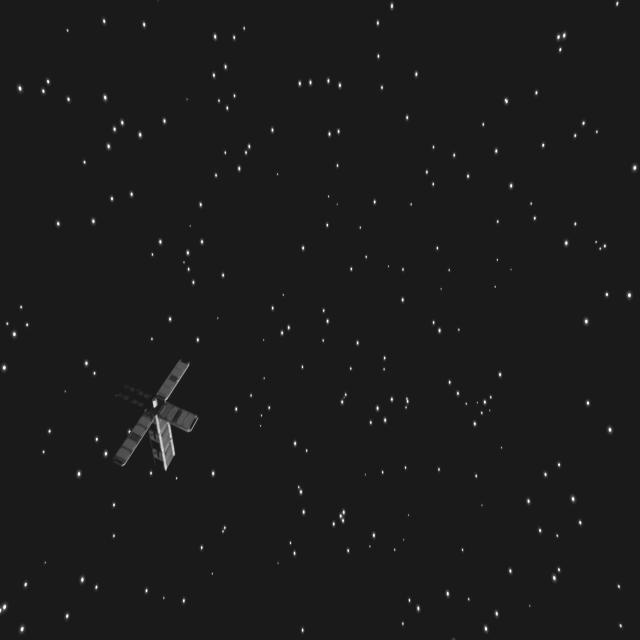satellite: (93, 356, 208, 502)
